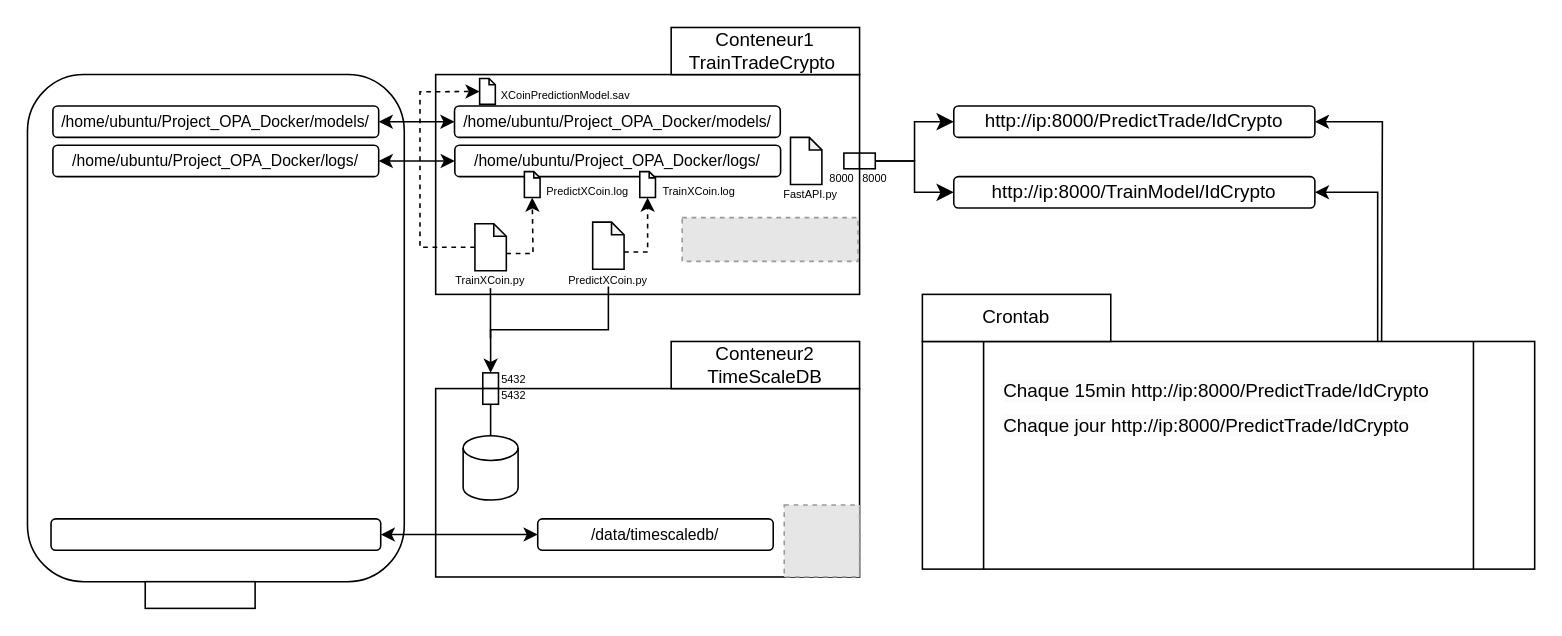
Some shapes in this 1562 by 636 pixel diagram are drawn without their labels. Grey dashed boxes stand in for pictures. The shapes that lost their labels are listed below. From the top down, each one's centre as x and y in pixels, then its label:
pixel 215 533: /var/lib/postgresql/data
pixel 199 594: Volume
